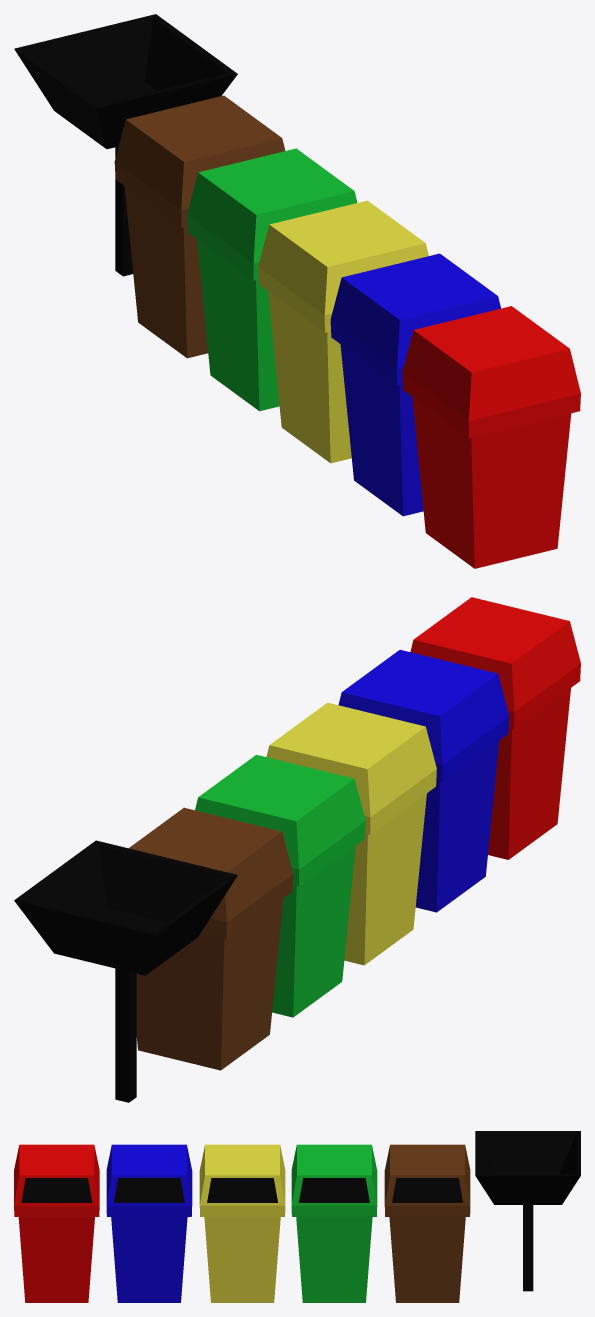
The model's file is lixeiras.fbx.
3 views of the same model, one above another, from view 1: azimuth 30°, elevation 25°; view 2: azimuth 150°, elevation 25°; view 3: azimuth 270°, elevation 25° (orthographic). The views are drawn at different scales.
Visible parts, largest first — view 1: lixeira vermelha, lixeira marrom, lixeira amarela, Lixeira azul, lixeira verde, lixeira comum; view 2: lixeira marrom, lixeira comum, lixeira verde, Lixeira azul, lixeira vermelha, lixeira amarela; view 3: lixeira marrom, lixeira verde, Lixeira azul, lixeira amarela, lixeira vermelha, lixeira comum.
Boxes of the visible parts, x1=… form: lixeira vermelha: x1=402, y1=306, x2=580, y2=568; lixeira marrom: x1=114, y1=95, x2=285, y2=358; lixeira amarela: x1=258, y1=200, x2=428, y2=463; Lixeira azul: x1=330, y1=253, x2=500, y2=516; lixeira verde: x1=187, y1=148, x2=357, y2=411; lixeira comum: x1=14, y1=14, x2=237, y2=276; lixeira marrom: x1=129, y1=807, x2=293, y2=1070; lixeira comum: x1=14, y1=840, x2=237, y2=1102; lixeira verde: x1=195, y1=755, x2=365, y2=1017; Lixeira azul: x1=338, y1=649, x2=509, y2=912; lixeira vermelha: x1=410, y1=597, x2=580, y2=859; lixeira amarela: x1=266, y1=702, x2=436, y2=965; lixeira marrom: x1=384, y1=1144, x2=470, y2=1302; lixeira verde: x1=291, y1=1144, x2=377, y2=1302; Lixeira azul: x1=106, y1=1144, x2=192, y2=1302; lixeira amarela: x1=199, y1=1144, x2=285, y2=1302; lixeira vermelha: x1=14, y1=1144, x2=99, y2=1302; lixeira comum: x1=475, y1=1131, x2=580, y2=1291.
Bounding box in the file's own units: 84.72 × 121 × 454.
